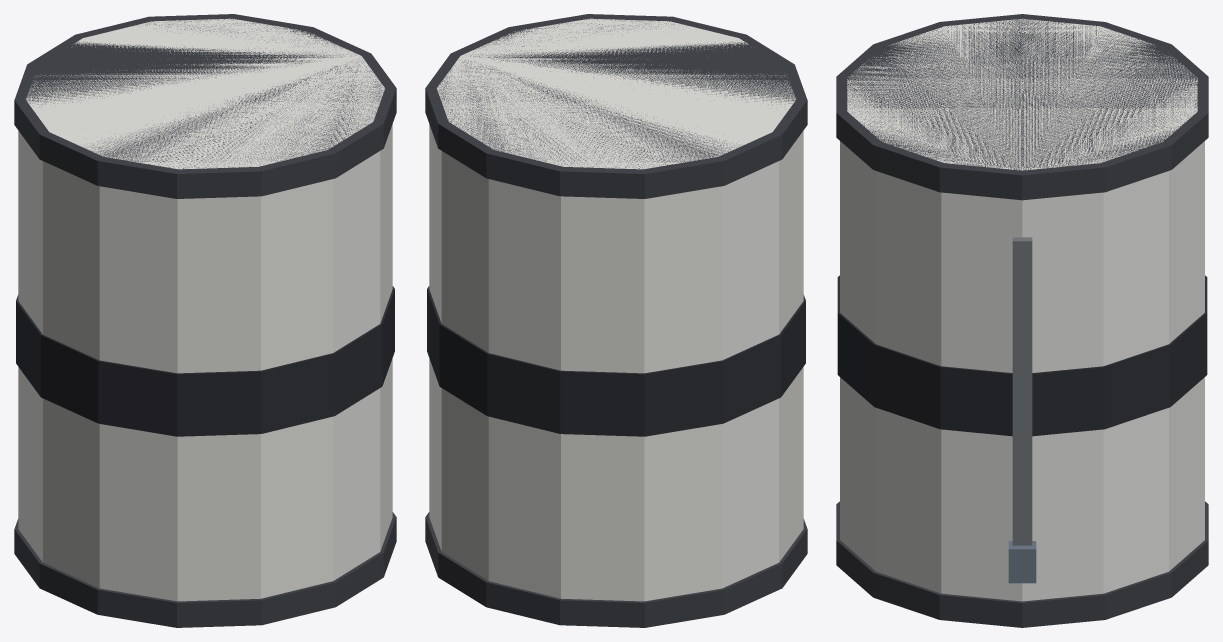
File: Tank_L_Short.fbx
3 renders of one model, left to right at view 1: azimuth 30°, elevation 25°; view 2: azimuth 150°, elevation 25°; view 3: azimuth 270°, elevation 25°, orthographic.
Visible parts, largest first — view 1: Tank_L_Short; view 2: Tank_L_Short; view 3: Tank_L_Short.
Part boxes in pixels (left/top/right/bottom): Tank_L_Short: left=14, top=14, right=396, bottom=627; Tank_L_Short: left=425, top=14, right=807, bottom=627; Tank_L_Short: left=836, top=14, right=1208, bottom=627.
Bounding box in the file's own units: 3.18 × 4 × 2.98.
1 material, 1 textured.
